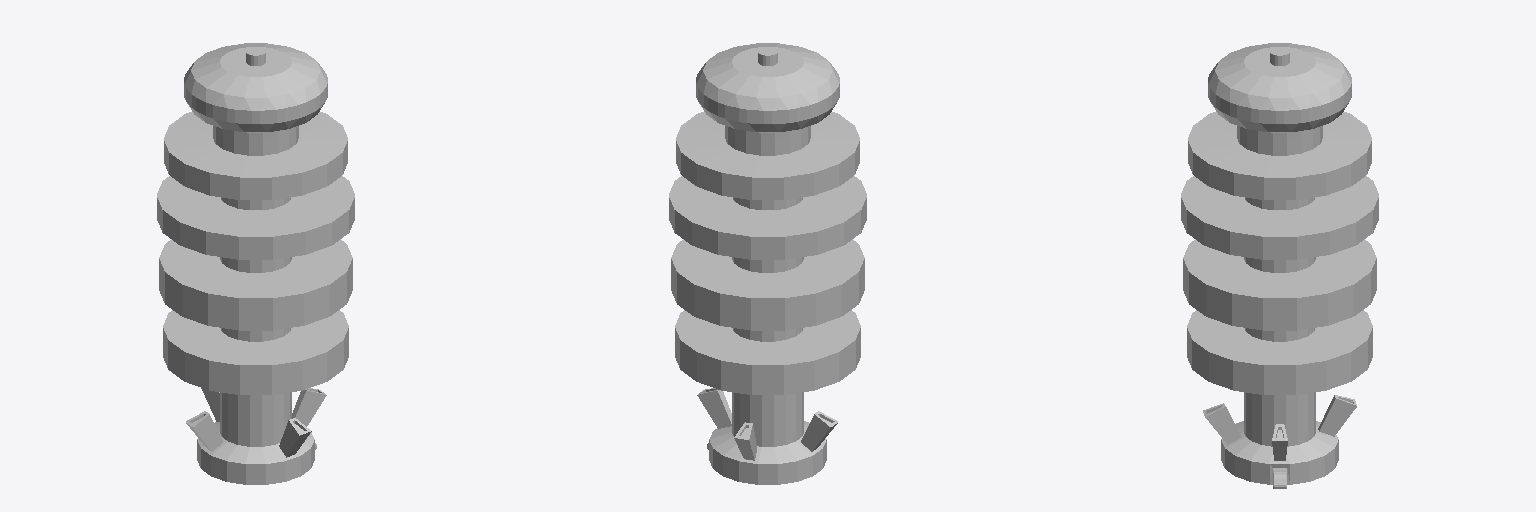
Rendered from TeslaCoil.obj.
3 views of the same model, side by side, from view 1: azimuth 30°, elevation 25°; view 2: azimuth 150°, elevation 25°; view 3: azimuth 270°, elevation 25° (orthographic).
Visible parts, largest first — view 1: Tesla_Coil_Cylinder; view 2: Tesla_Coil_Cylinder; view 3: Tesla_Coil_Cylinder.
Part boxes in pixels (x1,y1,x2,y2): Tesla_Coil_Cylinder: (157, 43, 354, 484); Tesla_Coil_Cylinder: (669, 43, 866, 484); Tesla_Coil_Cylinder: (1181, 43, 1378, 488).
Bounding box in the file's own units: 1.61 × 3.71 × 1.63.